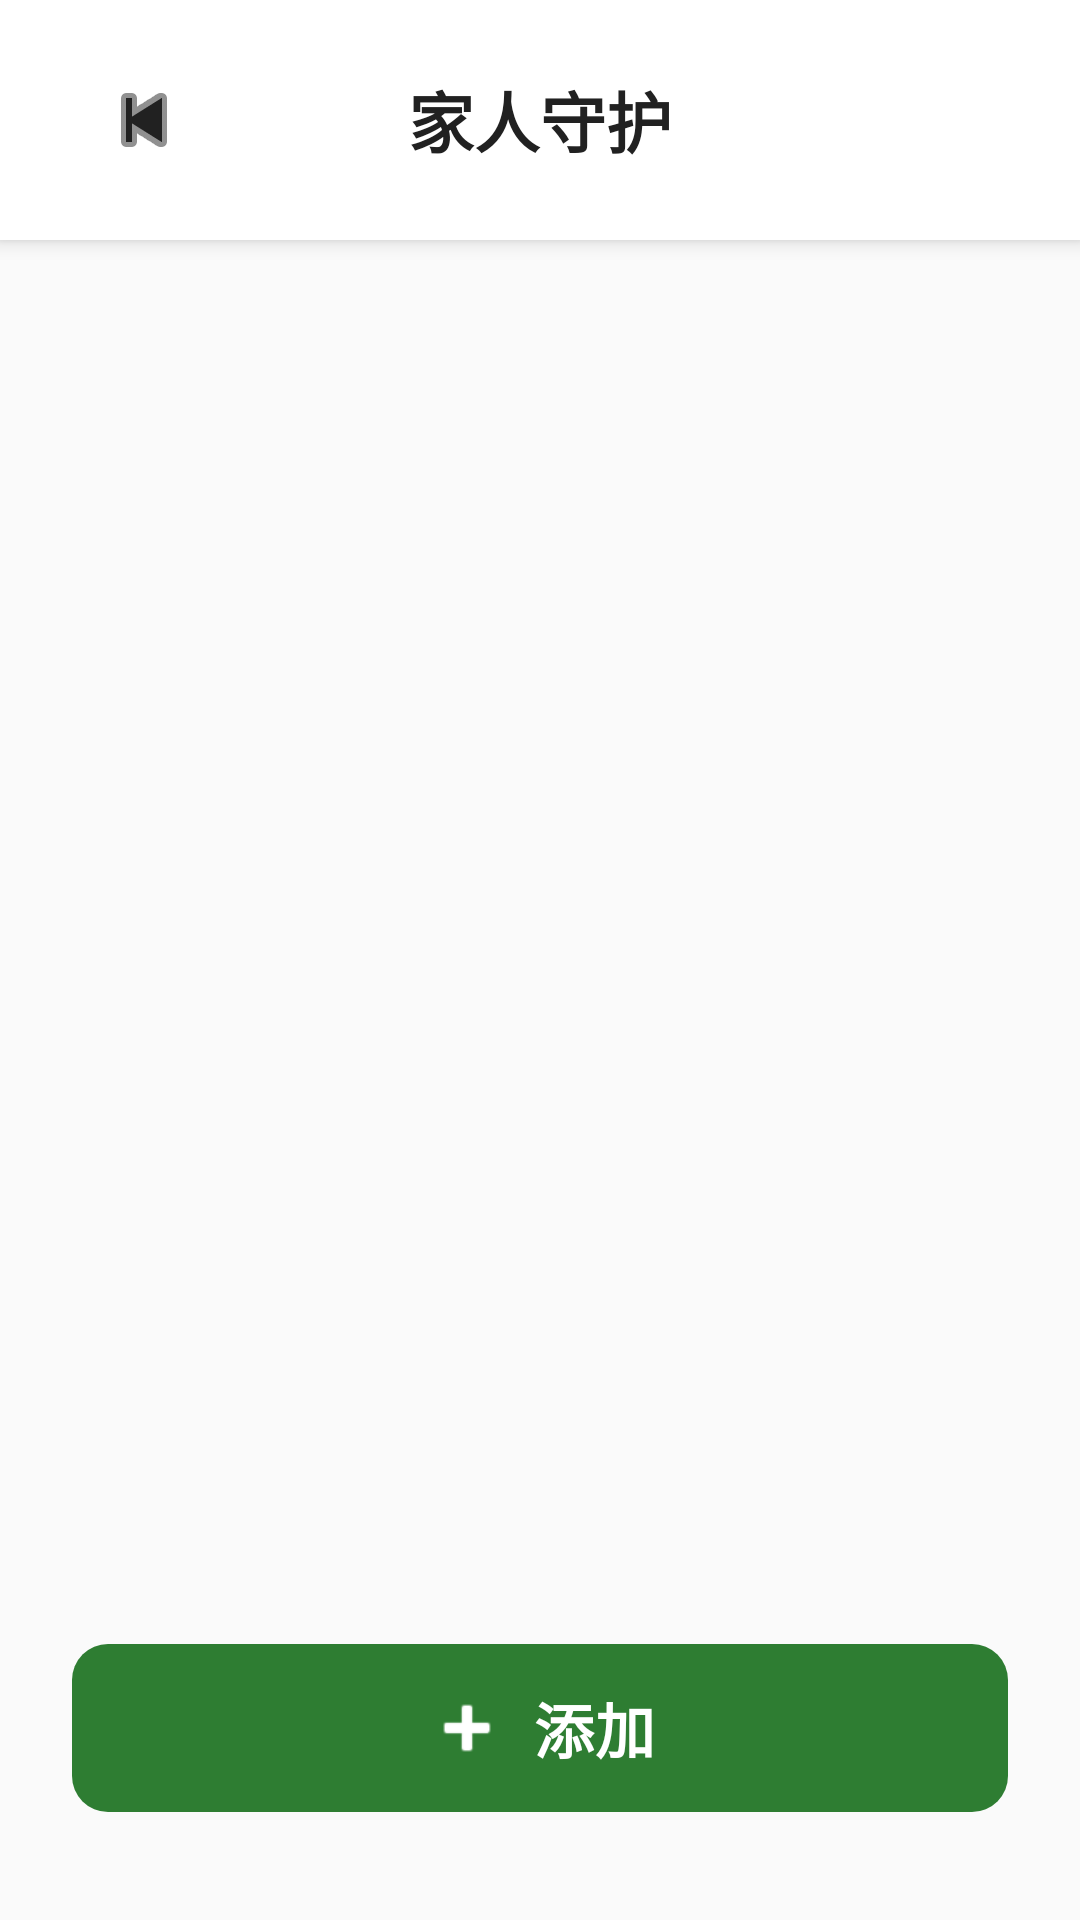

Point at icon controls on the screen. Image size 1080w x 1920h, points as (x=x, y=y).
返回: (x=144, y=120)
